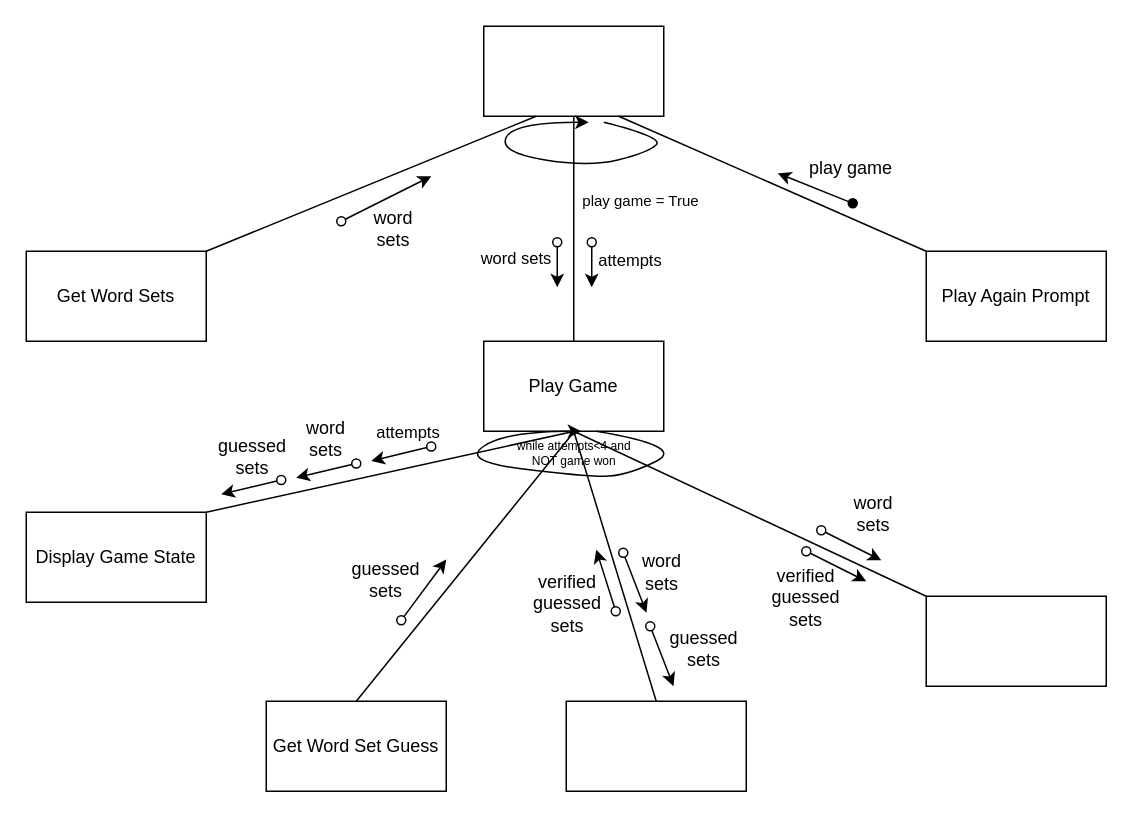
This 1133x818 diagram has some shape labels left out. The shapes that lost their labels are listed below. From the top down, each one's box as (x1, y1, x2, y2) in pixels, then its label:
(482, 25, 664, 116): Connections
(925, 595, 1106, 686): Check Win
(565, 700, 746, 791): Check Guessed Word Sets
